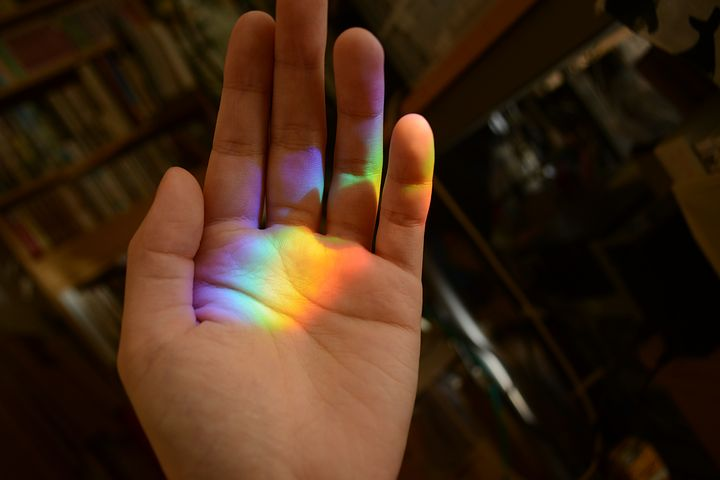palmhand: (118, 8, 428, 480)
